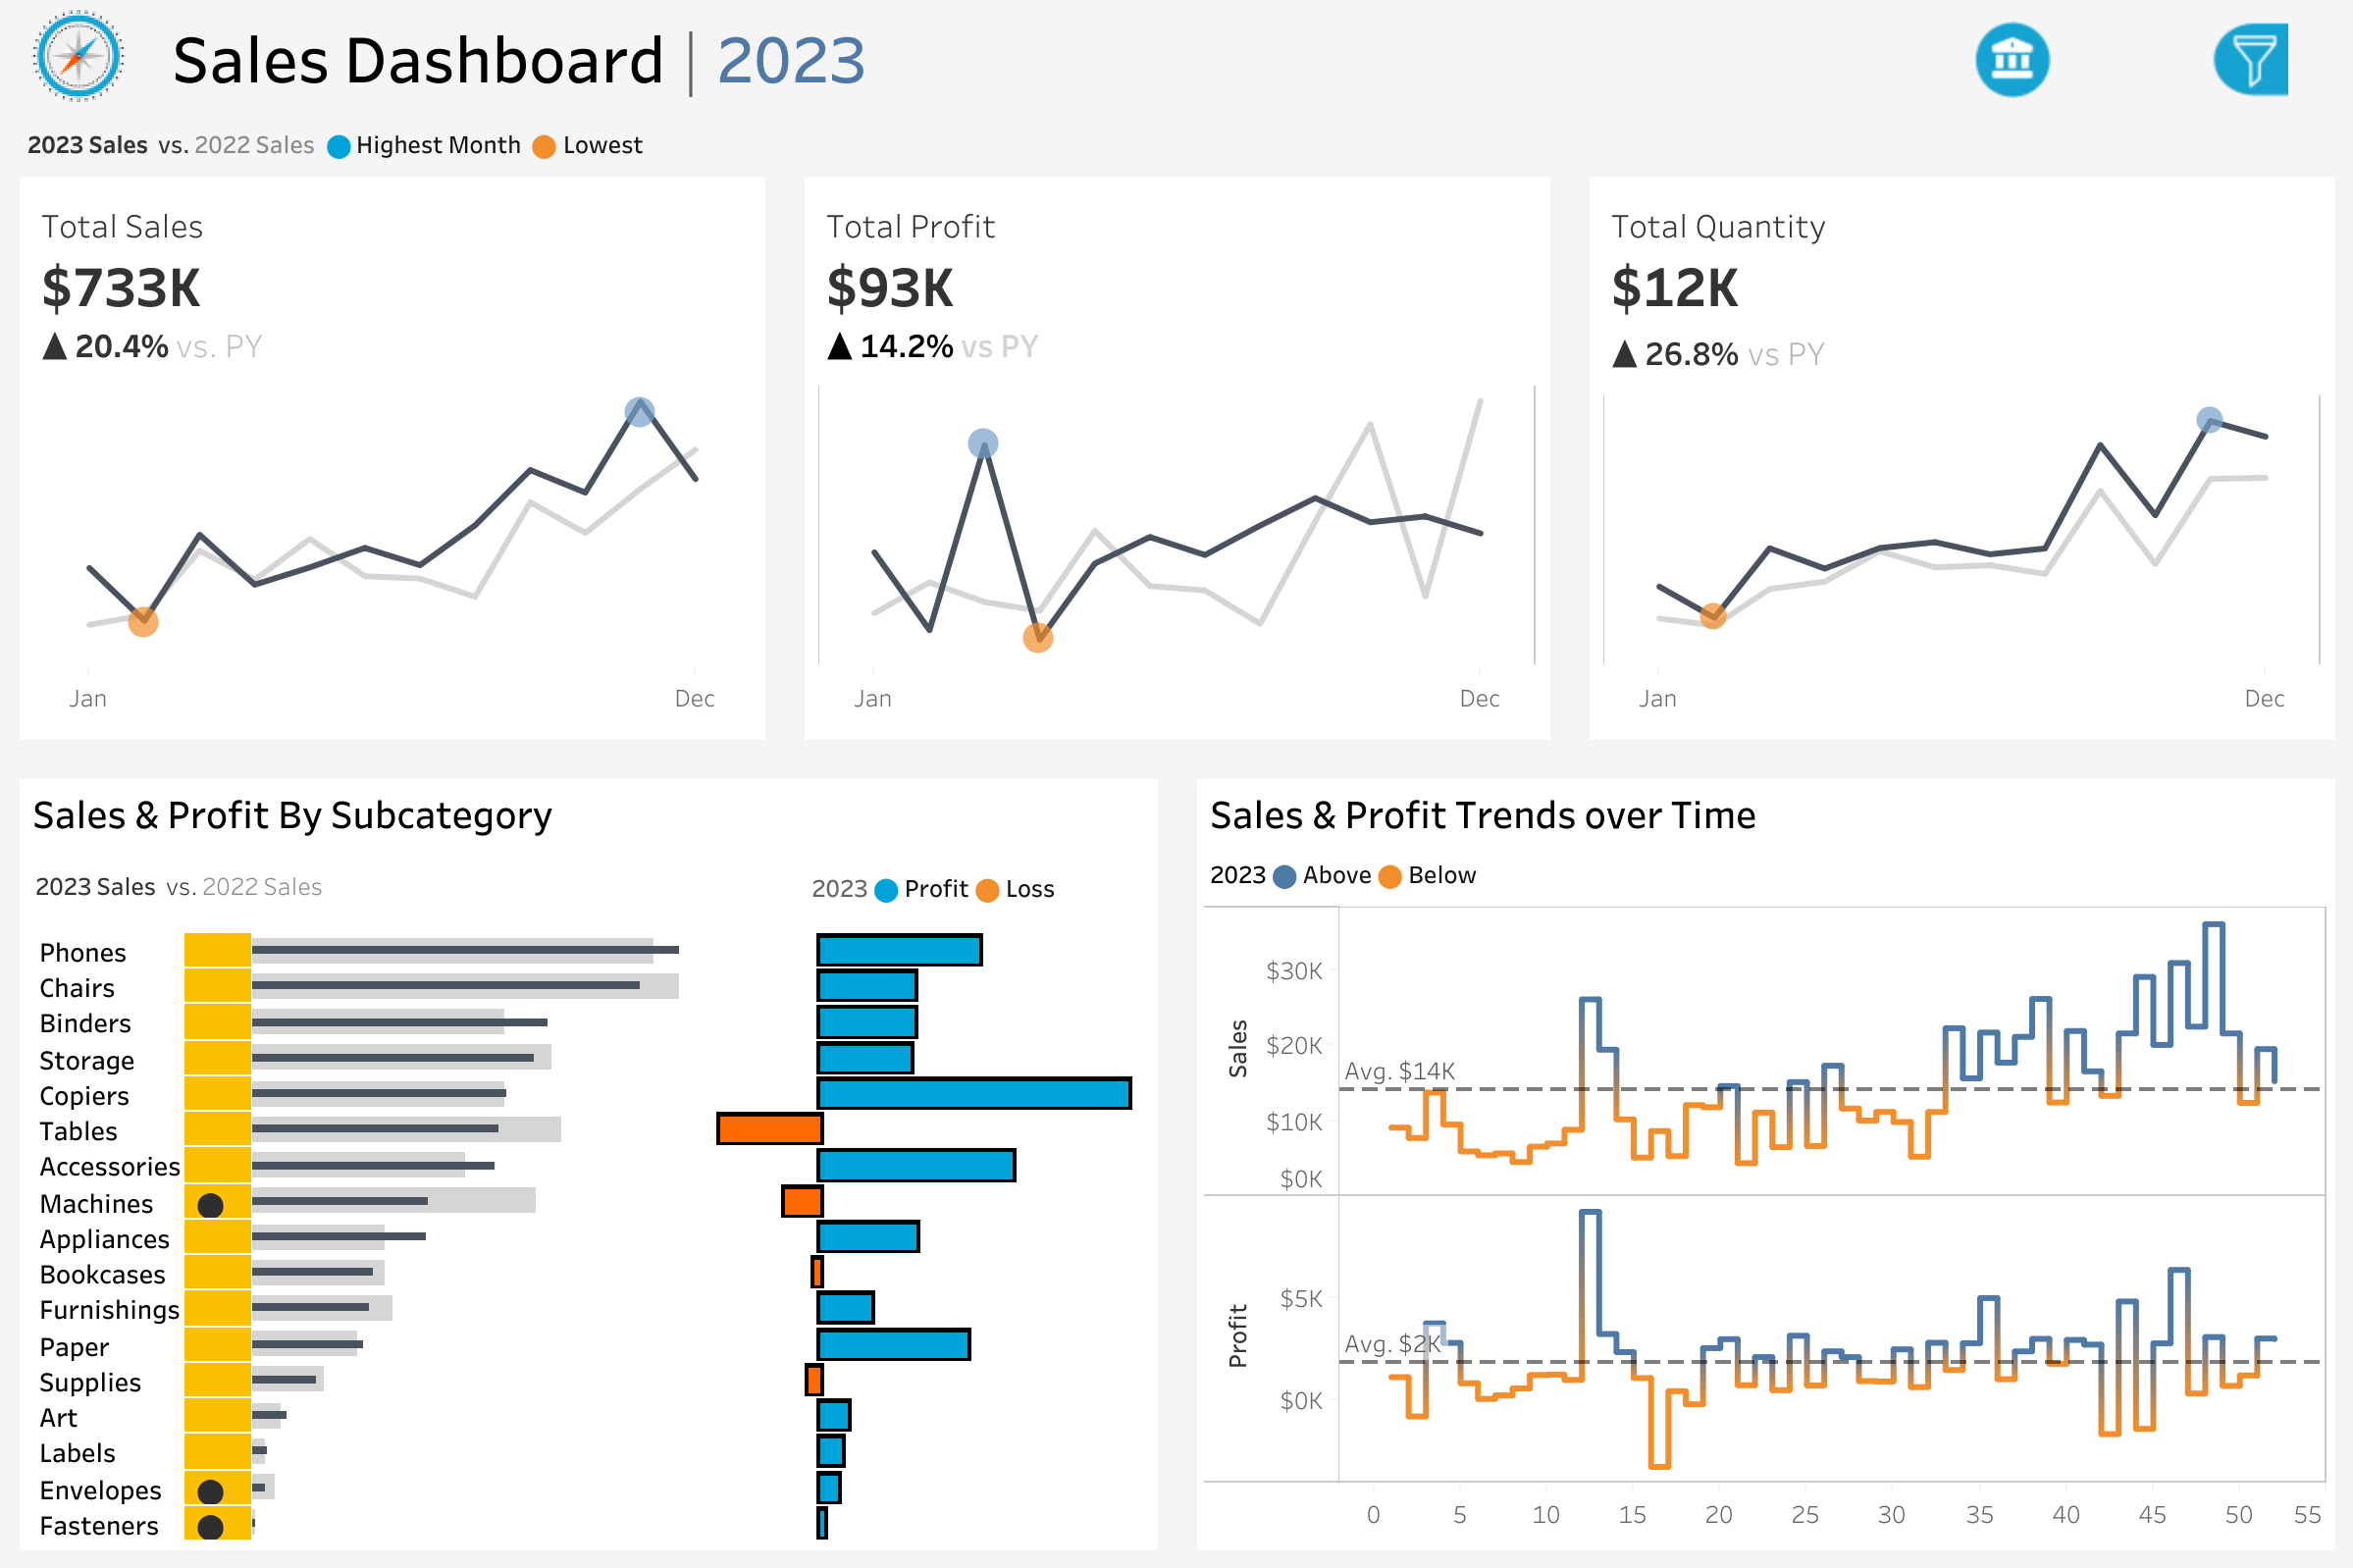

Layout of this report page (visuals, bound fields, positions):
{"tool":"tableau","page":{"name":"Sales Dashboard","canvas":[1200,800],"ordinal":0},"visuals":[{"type":"image","param":"Image/Icon - Logo.png","box":[0,0,81,57]},{"type":"text","box":[81,0,877,57]},{"type":"blank","box":[983,4,208,44]},{"type":"dashboard-object","box":[965,7,121,47]},{"type":"text","box":[983,48,208,35]},{"type":"worksheet","title":"Legend KPI","mark":"Automatic","box":[0,57,1200,33]},{"type":"parameter","param":"[Parameters].[Parameter 1]","box":[983,83,208,56]},{"type":"worksheet","title":"KPI Sales","mark":"Automatic","rows":["Calculation_1125966379737282"],"cols":["Order Date"],"box":[0,90,400,297]},{"type":"worksheet","title":"KPI Profit","mark":"Automatic","rows":["Calculation_1125966504845526"],"cols":["Order Date"],"box":[400,90,400,297]},{"type":"worksheet","title":"KPI Quantity","mark":"Automatic","rows":["Calculation_1125966540366045"],"cols":["Order Date"],"box":[800,90,400,297]},{"type":"blank","box":[983,139,208,32]},{"type":"text","box":[983,171,208,30]},{"type":"filter","title":"KPI Sales","param":"[federated.1dwigrx0v51rn9161yxxv0qce1f1].[none:Category:nk]","box":[983,201,208,56]},{"type":"filter","title":"KPI Sales","param":"[federated.1dwigrx0v51rn9161yxxv0qce1f1].[none:Sub-Category:nk]","box":[983,257,208,56]},{"type":"blank","box":[983,313,208,32]},{"type":"text","box":[983,345,208,30]},{"type":"filter","title":"KPI Sales","param":"[federated.1dwigrx0v51rn9161yxxv0qce1f1].[none:Region:nk]","box":[983,375,208,56]},{"type":"text","box":[10,397,580,35]},{"type":"text","box":[610,397,580,35]},{"type":"filter","title":"KPI Sales","param":"[federated.1dwigrx0v51rn9161yxxv0qce1f1].[none:State:nk]","box":[983,431,208,56]},{"type":"worksheet","title":"Legend Subcategory","mark":"Automatic","box":[10,432,397,39]},{"type":"text","box":[407,432,183,39]},{"type":"text","box":[610,432,580,26]},{"type":"worksheet","title":"Weekly Trend","mark":"Automatic","rows":["Calculation_1125965785350612","Calculation_1125966502023379"],"cols":["Order Date"],"box":[610,458,580,332]},{"type":"worksheet","title":"Subcategory Comparison","mark":"Bar","rows":["Sub-Category","Calculation_1125966564954340"],"cols":["Calculation_1125965785965013","Calculation_1125965785350612","Calculation_1125966502023379"],"box":[10,471,580,318.9]},{"type":"filter","title":"KPI Sales","param":"[federated.1dwigrx0v51rn9161yxxv0qce1f1].[none:City:nk]","box":[983,487,208,56]}]}

Visuals, with their boxes in screenshot pixels (x1, y1, x2, y2), scaled from the page's 1200x800 canvas onto the 2353x1568 screenshot:
image: {"x1": 0, "y1": 0, "x2": 159, "y2": 112}
text: {"x1": 159, "y1": 0, "x2": 1878, "y2": 112}
blank: {"x1": 1927, "y1": 8, "x2": 2335, "y2": 94}
dashboard-object: {"x1": 1892, "y1": 14, "x2": 2129, "y2": 106}
text: {"x1": 1927, "y1": 94, "x2": 2335, "y2": 163}
"Legend KPI" worksheet: {"x1": 0, "y1": 112, "x2": 2352, "y2": 177}
parameter: {"x1": 1927, "y1": 163, "x2": 2335, "y2": 273}
"KPI Sales" worksheet: {"x1": 0, "y1": 177, "x2": 784, "y2": 758}
"KPI Profit" worksheet: {"x1": 784, "y1": 177, "x2": 1569, "y2": 758}
"KPI Quantity" worksheet: {"x1": 1569, "y1": 177, "x2": 2352, "y2": 758}
blank: {"x1": 1927, "y1": 273, "x2": 2335, "y2": 336}
text: {"x1": 1927, "y1": 336, "x2": 2335, "y2": 393}
"KPI Sales" filter: {"x1": 1927, "y1": 393, "x2": 2335, "y2": 503}
"KPI Sales" filter: {"x1": 1927, "y1": 503, "x2": 2335, "y2": 613}
blank: {"x1": 1927, "y1": 613, "x2": 2335, "y2": 676}
text: {"x1": 1927, "y1": 676, "x2": 2335, "y2": 735}
"KPI Sales" filter: {"x1": 1927, "y1": 735, "x2": 2335, "y2": 845}
text: {"x1": 20, "y1": 778, "x2": 1157, "y2": 847}
text: {"x1": 1196, "y1": 778, "x2": 2333, "y2": 847}
"KPI Sales" filter: {"x1": 1927, "y1": 845, "x2": 2335, "y2": 955}
"Legend Subcategory" worksheet: {"x1": 20, "y1": 847, "x2": 798, "y2": 923}
text: {"x1": 798, "y1": 847, "x2": 1157, "y2": 923}
text: {"x1": 1196, "y1": 847, "x2": 2333, "y2": 898}
"Weekly Trend" worksheet: {"x1": 1196, "y1": 898, "x2": 2333, "y2": 1548}
"Subcategory Comparison" worksheet (Bar marks): {"x1": 20, "y1": 923, "x2": 1157, "y2": 1548}
"KPI Sales" filter: {"x1": 1927, "y1": 955, "x2": 2335, "y2": 1065}
